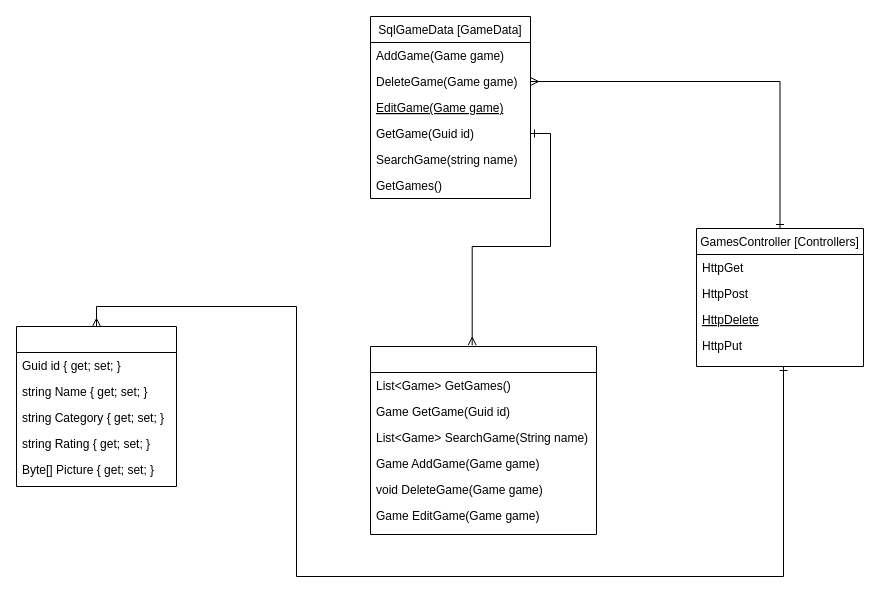
This 880x593 diagram has some shape labels left out. The shapes that lost their labels are listed below. From the top down, each one's box as (x1, y1, x2, y2) in pixels, then its label:
(16, 326, 176, 486): Game [Models]
(370, 346, 596, 534): IGameData [GameData]
